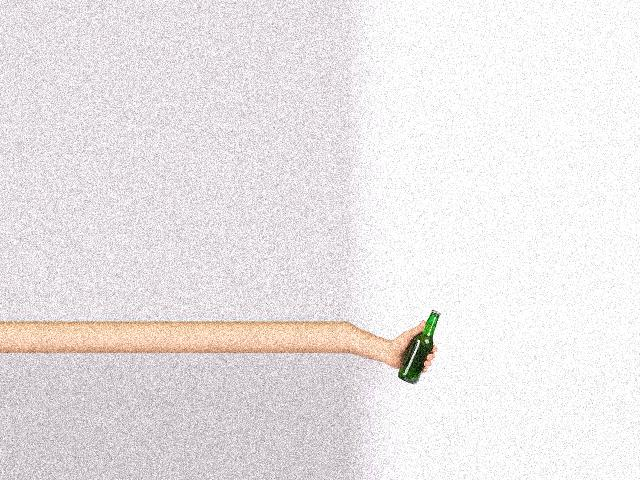beer: (397, 310, 439, 384)
